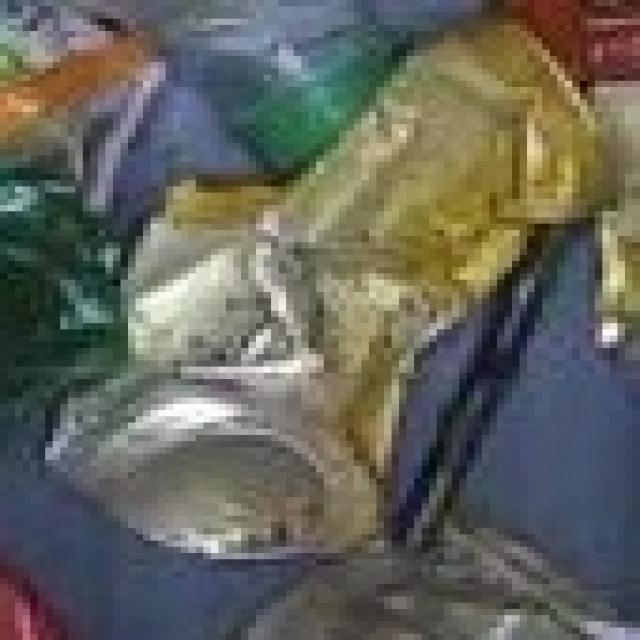litter: (29, 22, 640, 595)
